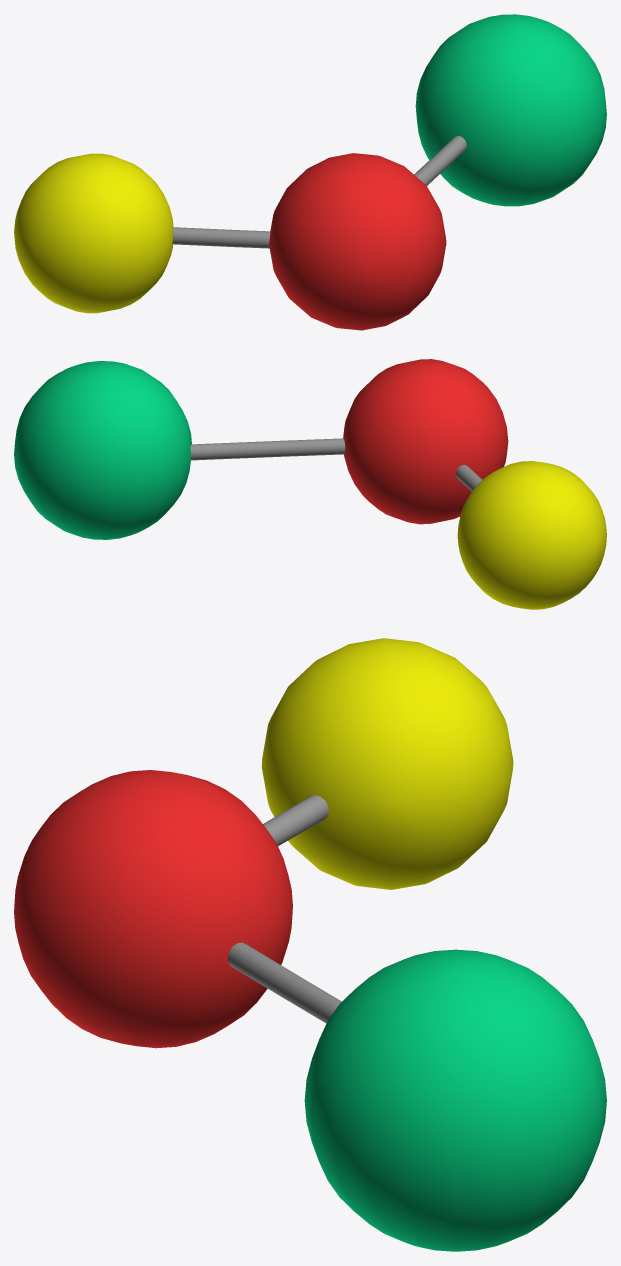
Rendered from KOH.fbx.
The picture shows the model from 3 angles, top to bottom: view 1: azimuth 30°, elevation 25°; view 2: azimuth 150°, elevation 25°; view 3: azimuth 270°, elevation 25°; orthographic projection. The views are drawn at different scales.
Visible parts, largest first — view 1: KOH; view 2: KOH; view 3: KOH.
Boxes of the visible parts, x1,y1,x2,y2 form: KOH: (14, 14, 606, 330); KOH: (14, 359, 606, 609); KOH: (14, 638, 606, 1251).
Size of the model in its own units: 7.1 by 2 by 3.92.
